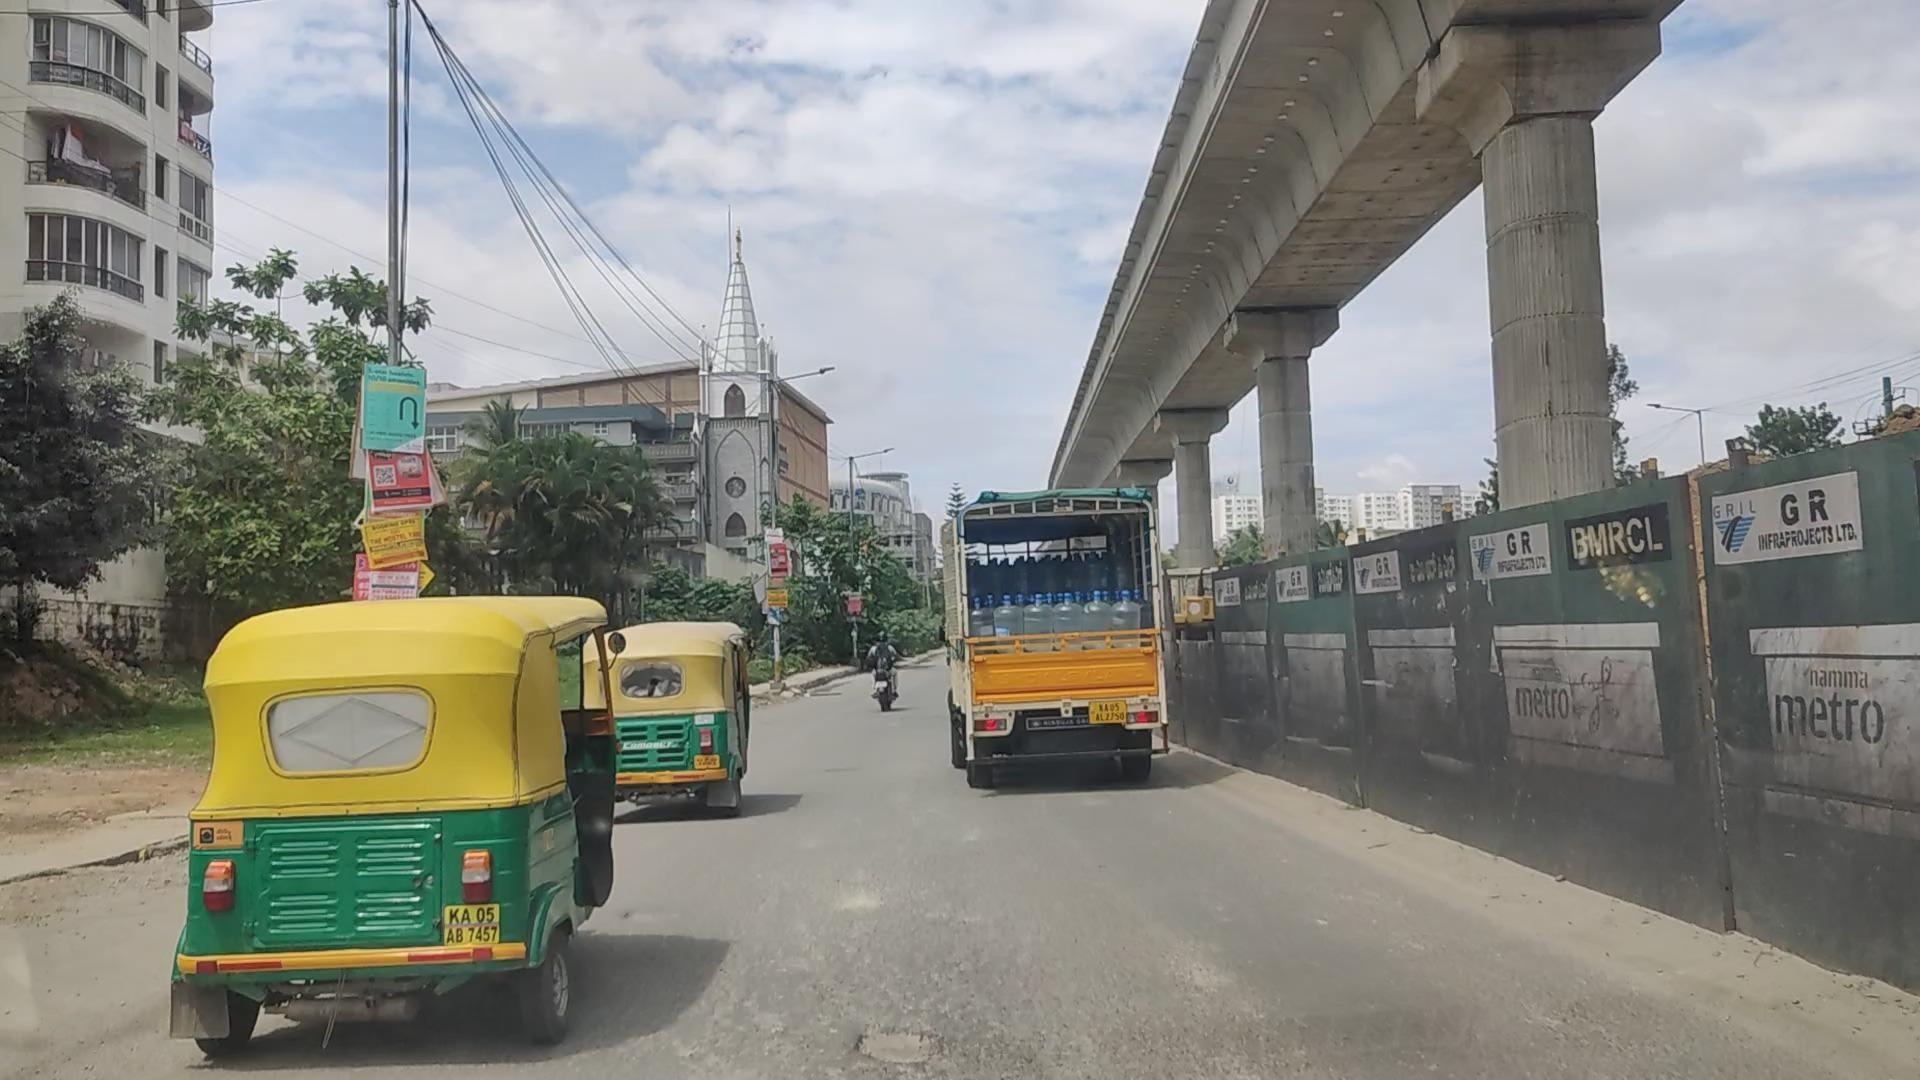HMV: (927, 477, 1180, 808)
LMV: (169, 593, 613, 1060), (558, 611, 746, 844), (861, 621, 903, 736)
RoadDamages: (844, 955, 976, 1080)
